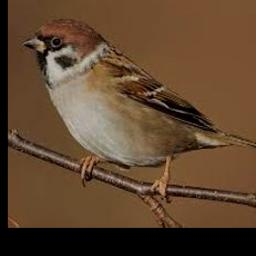Sparrow: (22, 18, 256, 202)
